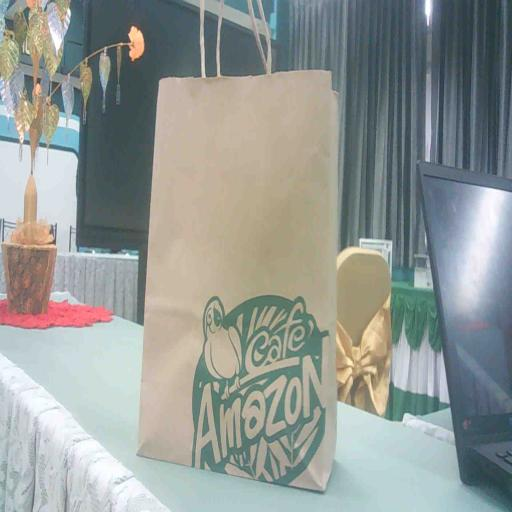bag: (128, 59, 352, 507)
